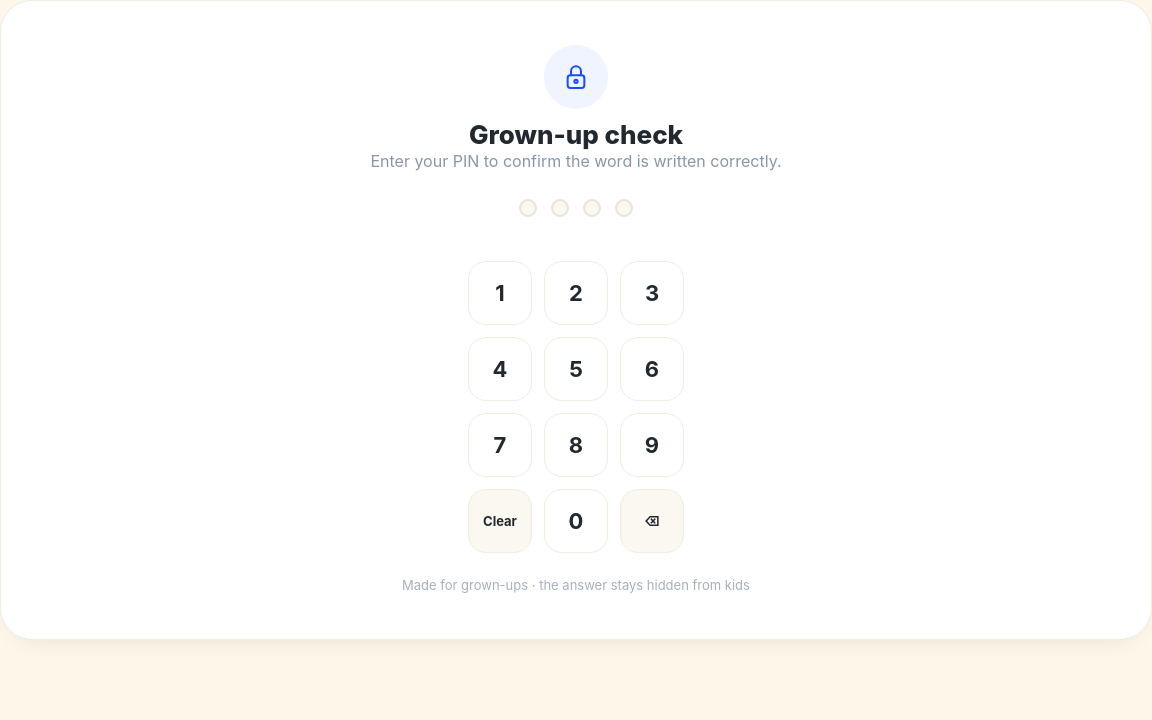
Test case: ParentVerify › Delete and Clear edit the entry
The image size is (1152, 720).
Click the button "1" at (500, 293), box [468,261,532,325]
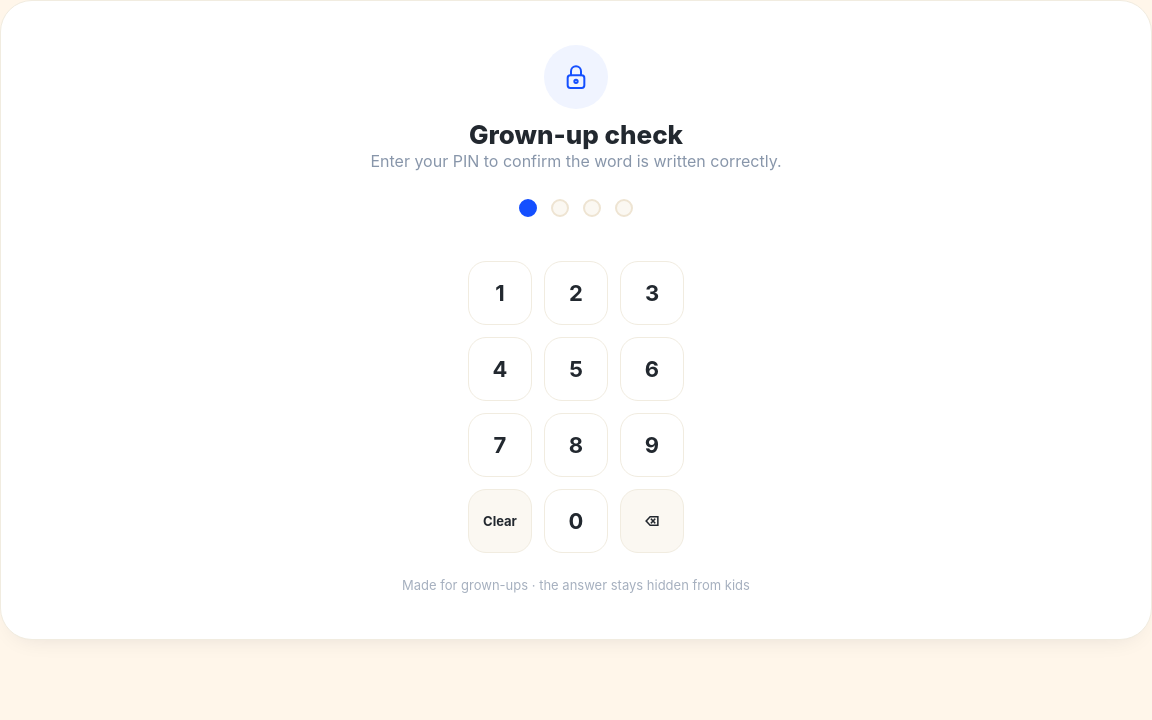
Click the button "2" at (576, 293), box [544,261,608,325]
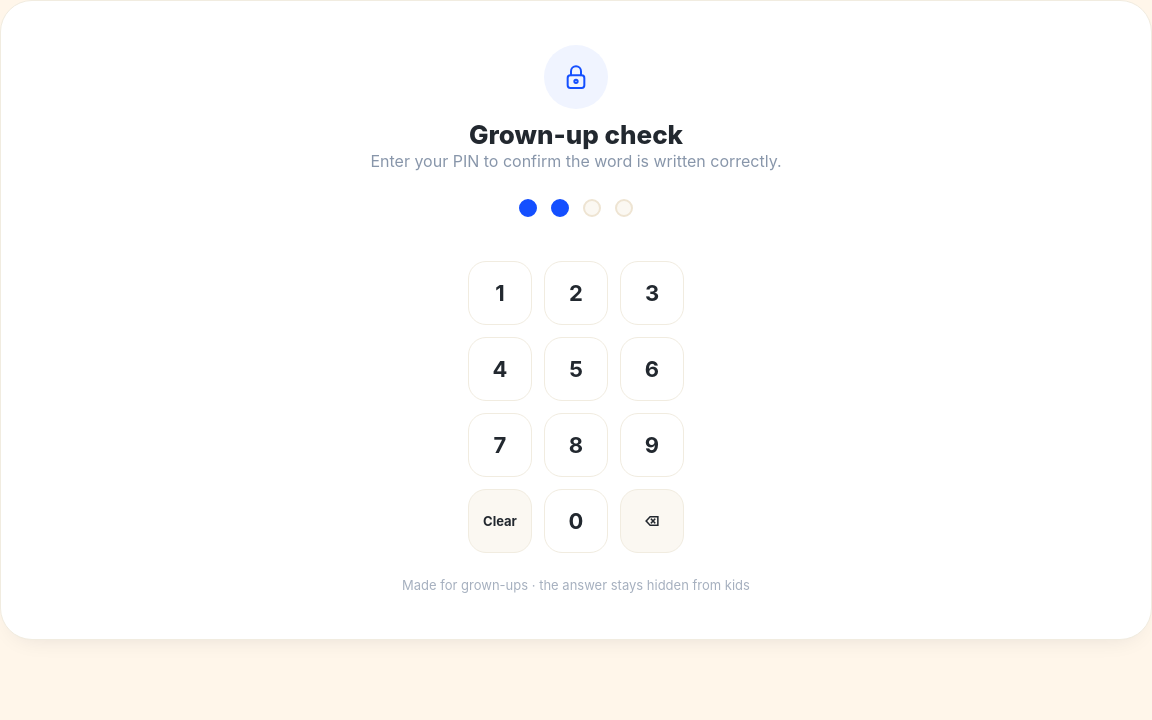
Click the button "3" at (652, 293), box [620,261,684,325]
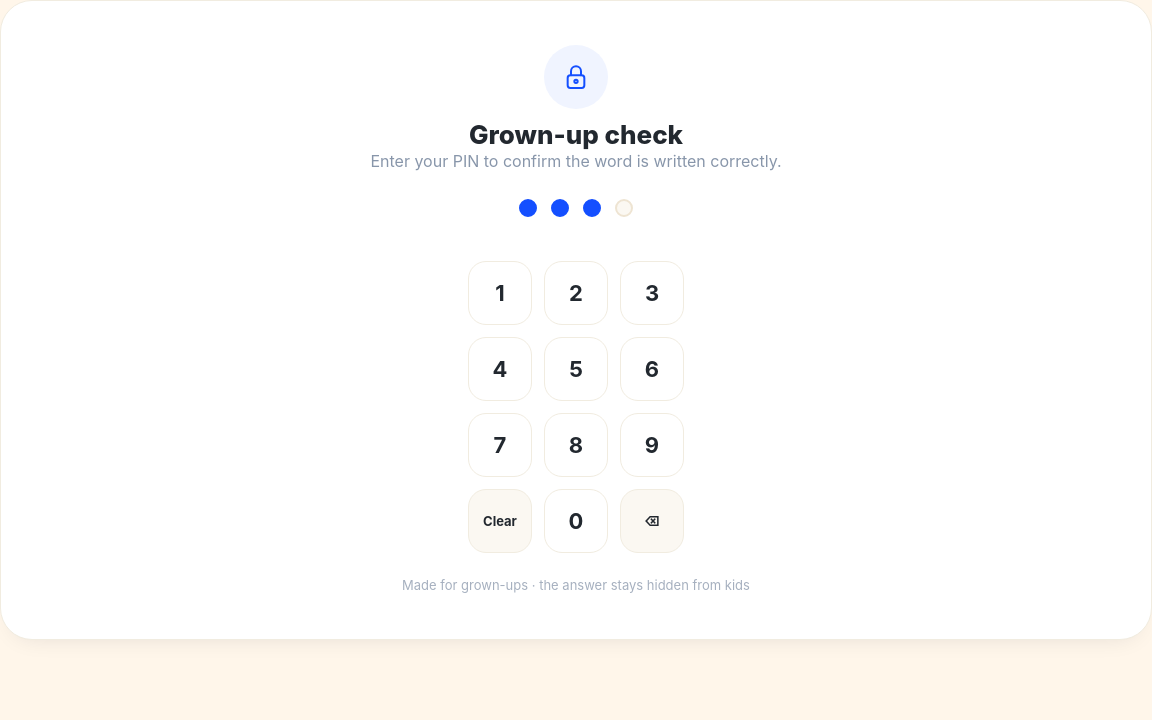
Click the button named "Delete" at (652, 521), box [620,489,684,553]
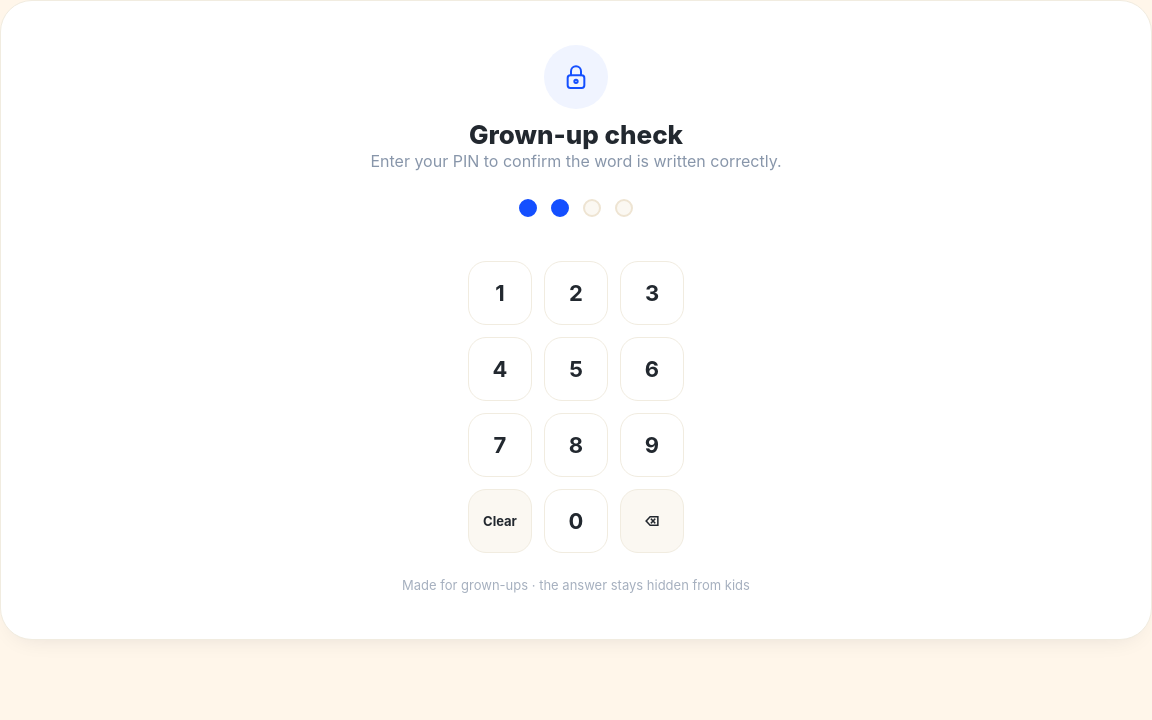
Check: the picture named "PIN digits entered: 2 of 4" is shown, box [519,199,633,217]
Click the button "Clear" at (500, 521), box [468,489,532,553]
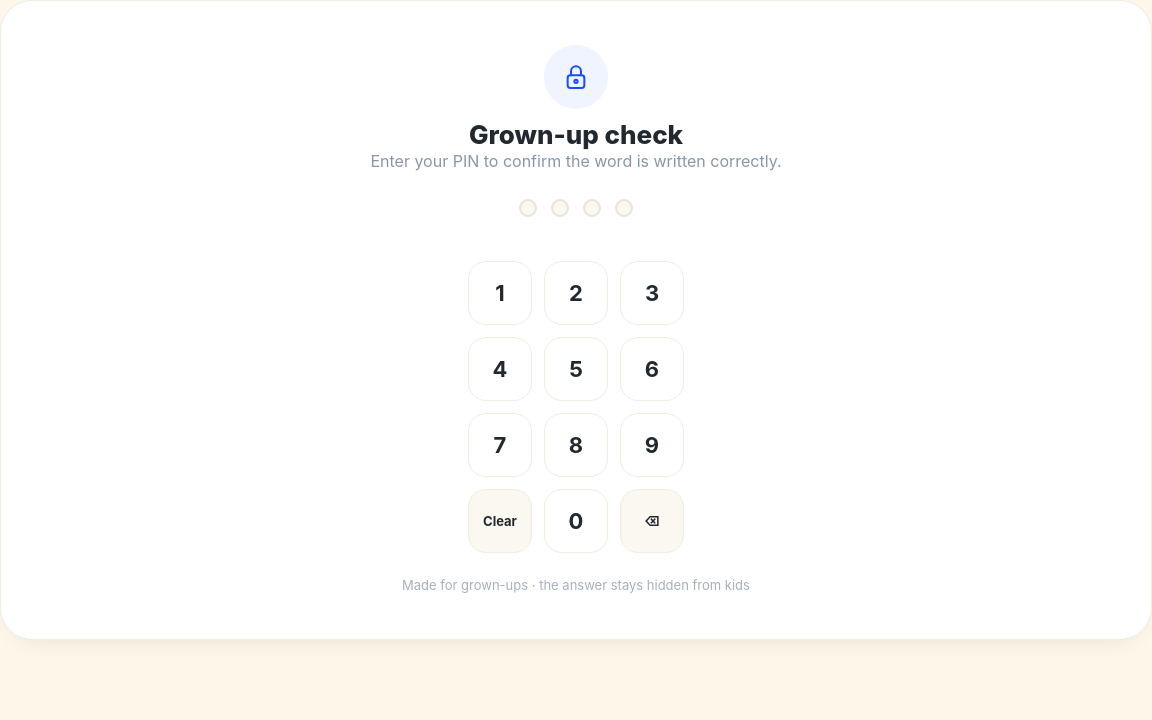
Check: the picture named "PIN digits entered: 0 of 4" is shown, box [519,199,633,217]
